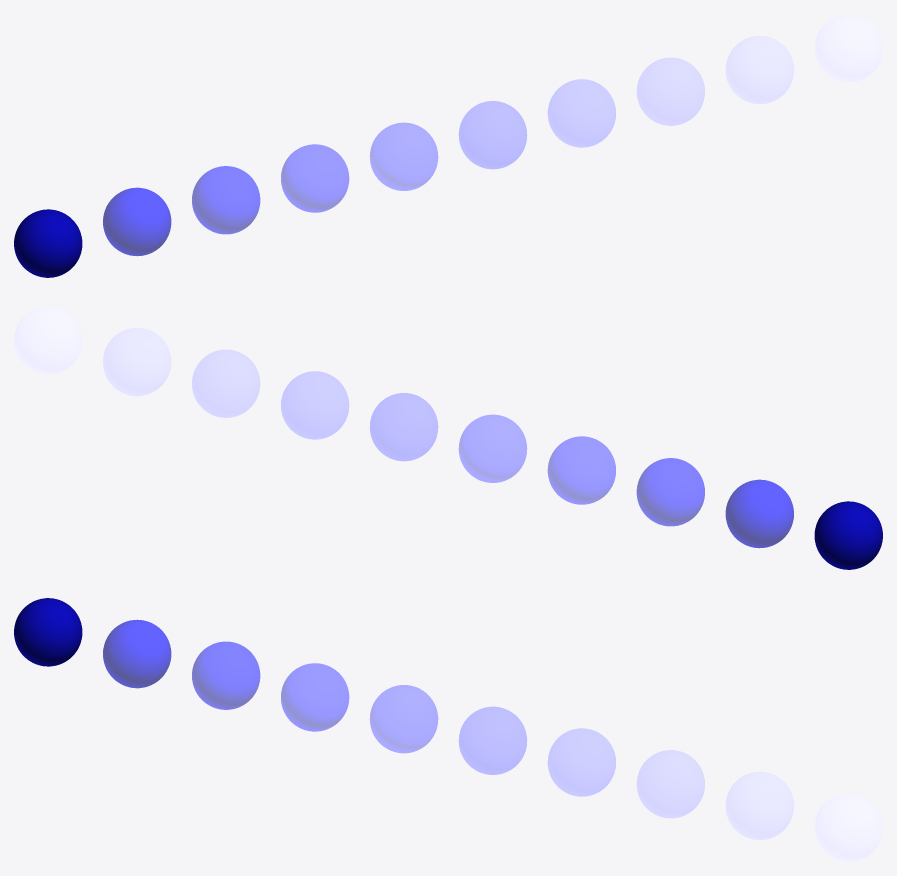
The model's file is emissive_grid.glb.
3 renders of one model, top to bottom at view 1: azimuth 30°, elevation 25°; view 2: azimuth 150°, elevation 25°; view 3: azimuth 330°, elevation 25°, orthographic.
Visible parts, largest first — view 1: sphere_0, sphere_9, sphere_3, sphere_6, sphere_1, sphere_2, sphere_7, sphere_8, sphere_4, sphere_5; view 2: sphere_0, sphere_9, sphere_3, sphere_6, sphere_1, sphere_2, sphere_7, sphere_8, sphere_4, sphere_5; view 3: sphere_0, sphere_9, sphere_3, sphere_6, sphere_1, sphere_2, sphere_7, sphere_8, sphere_4, sphere_5.
Part boxes in pixels (box(x1,y1,x2,y2)): sphere_0: box(14, 209, 82, 277); sphere_9: box(814, 14, 882, 82); sphere_3: box(281, 144, 349, 212); sphere_6: box(547, 79, 615, 147); sphere_1: box(103, 187, 171, 256); sphere_2: box(192, 166, 260, 234); sphere_7: box(636, 57, 704, 125); sphere_8: box(725, 35, 793, 104); sphere_4: box(369, 122, 438, 190); sphere_5: box(458, 101, 527, 169); sphere_0: box(814, 501, 882, 569); sphere_9: box(14, 306, 82, 374); sphere_3: box(547, 436, 615, 504); sphere_6: box(281, 371, 349, 439); sphere_1: box(725, 479, 793, 548); sphere_2: box(636, 458, 704, 526); sphere_7: box(192, 349, 260, 417); sphere_8: box(103, 327, 171, 396); sphere_4: box(458, 414, 527, 482); sphere_5: box(369, 393, 438, 461); sphere_0: box(14, 598, 82, 666); sphere_9: box(814, 793, 882, 861); sphere_3: box(281, 663, 349, 731); sphere_6: box(547, 728, 615, 796); sphere_1: box(103, 619, 171, 688); sphere_2: box(192, 641, 260, 709); sphere_7: box(636, 750, 704, 818); sphere_8: box(725, 771, 793, 840); sphere_4: box(369, 685, 438, 753); sphere_5: box(458, 706, 527, 774).
Bounding box in the file's own units: 2.9 × 0.1997 × 0.2.
